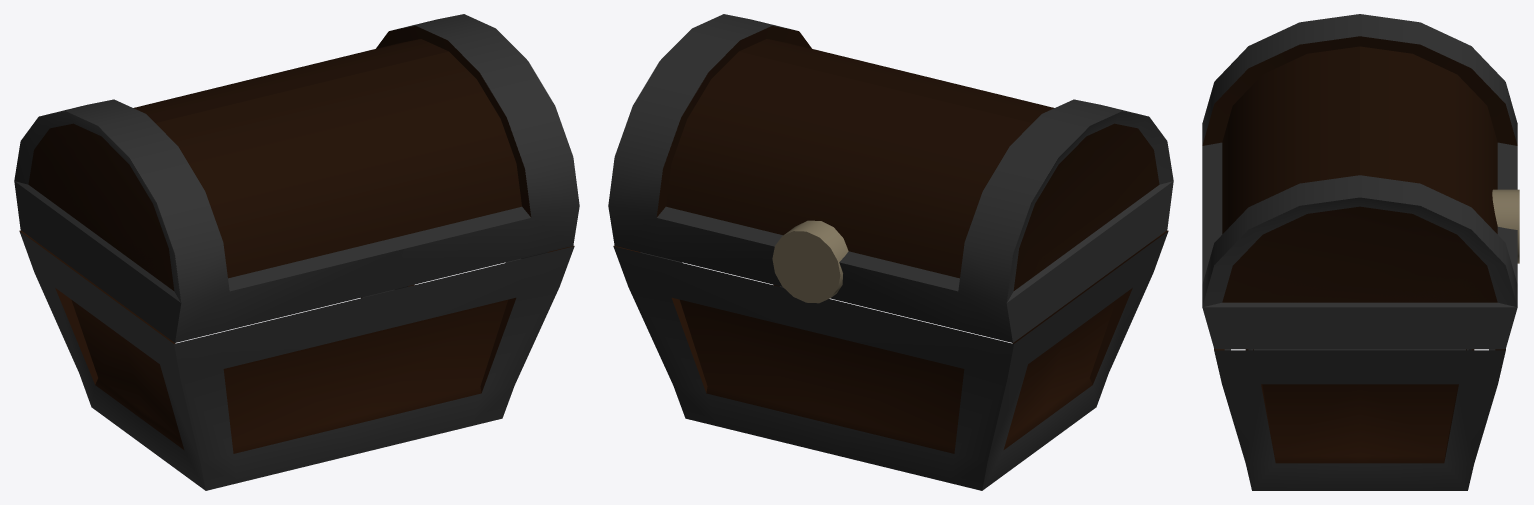
3 views of the same model, side by side, from view 1: azimuth 30°, elevation 25°; view 2: azimuth 150°, elevation 25°; view 3: azimuth 270°, elevation 25° (orthographic). The views are drawn at different scales.
Parts seen in each view (by area): view 1: Cube; view 2: Cube, Cylinder; view 3: Cube, Cylinder.
Boxes of the visible parts, box(x1,y1,x2,y2) form: Cube: box(14, 14, 579, 490); Cube: box(608, 14, 1173, 490); Cylinder: box(772, 220, 848, 303); Cube: box(1202, 14, 1517, 490); Cylinder: box(1492, 189, 1519, 263).
Bounding box in the file's own units: 2.06 × 1.65 × 1.5.
